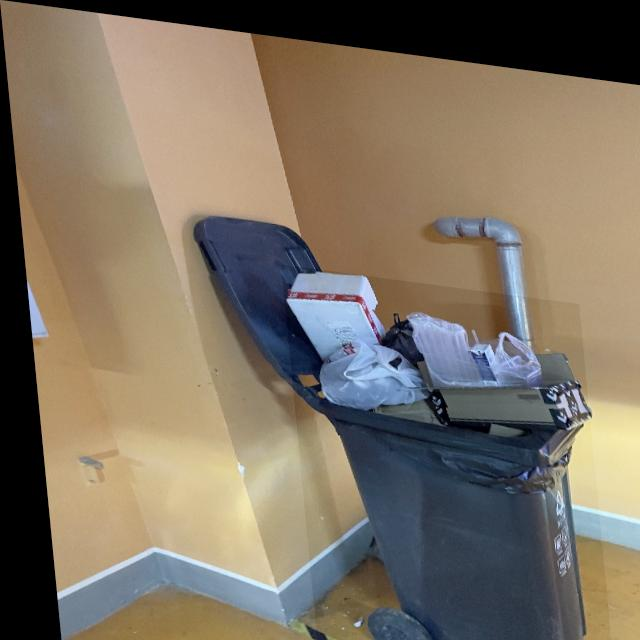overflow: (276, 257, 605, 640)
